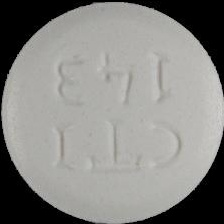10544-242: (0, 0, 224, 224)
